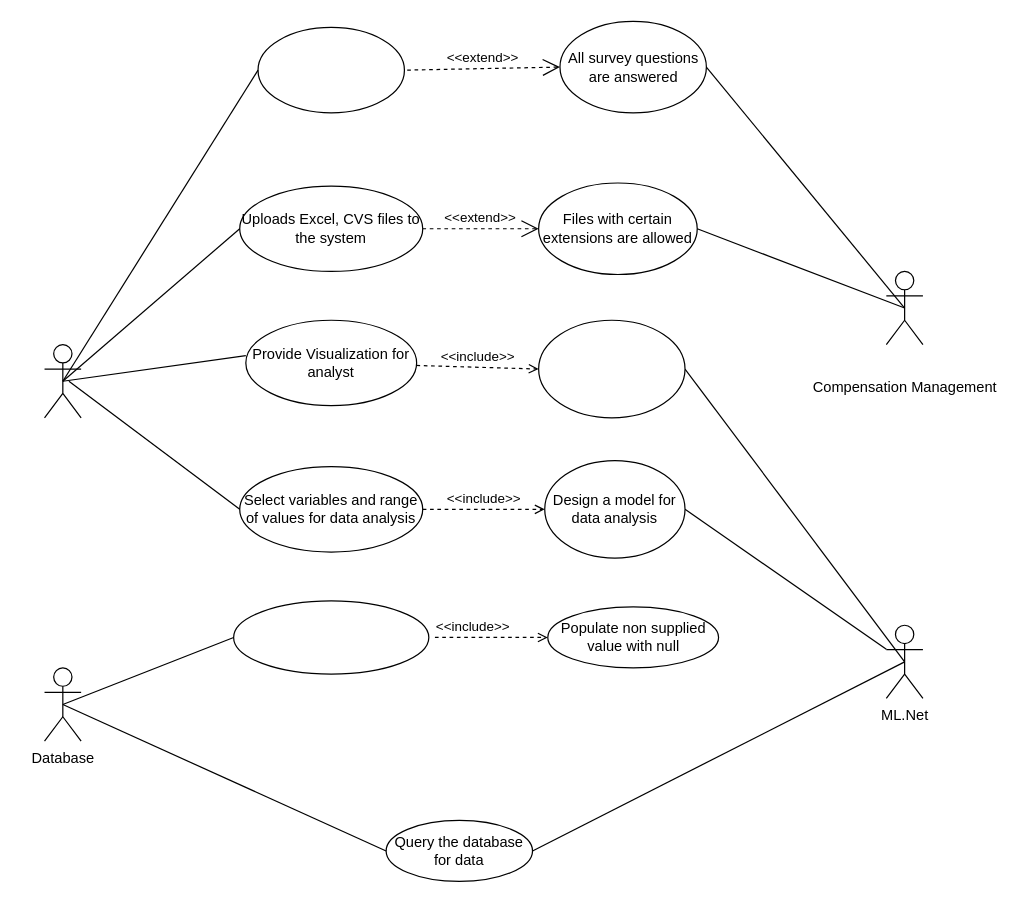
This 1030x903 diagram has some shape labels left out. Here are the shapes that lost their labels. From the top down, the centre of each, then its label:
the point at 330,69: Perform/Complete Surveys
the point at 904,307: <<System>>
the point at 62,380: Analyst/User
the point at 611,368: Plots graphs and display relevant information
the point at 330,637: Holds parsed data information and data from survey result
